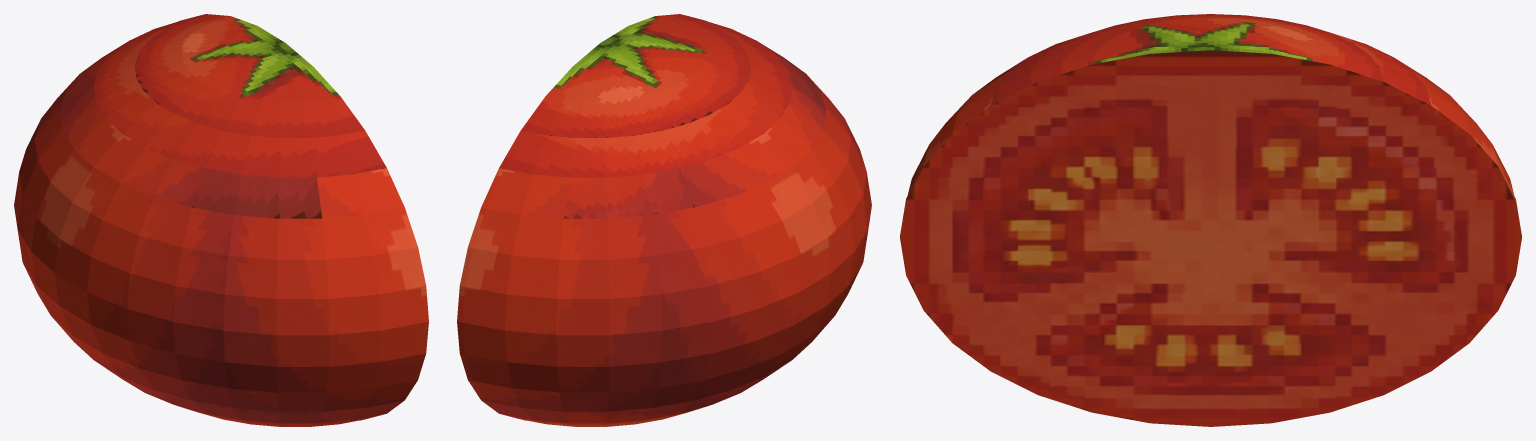
The model's file is salet2.fbx.
3 renders of one model, left to right at view 1: azimuth 30°, elevation 25°; view 2: azimuth 150°, elevation 25°; view 3: azimuth 270°, elevation 25°, orthographic. The views are drawn at different scales.
Parts seen in each view (by area): view 1: Sphere.001; view 2: Sphere.001; view 3: Sphere.001.
Boxes of the visible parts, x1,y1,x2,y2 form: Sphere.001: (14,14,428,426); Sphere.001: (457,14,871,426); Sphere.001: (900,14,1521,426).
Bounding box in the file's own units: 22.59 × 32.47 × 48.56.
Materials: 1 (1 with a texture image).
